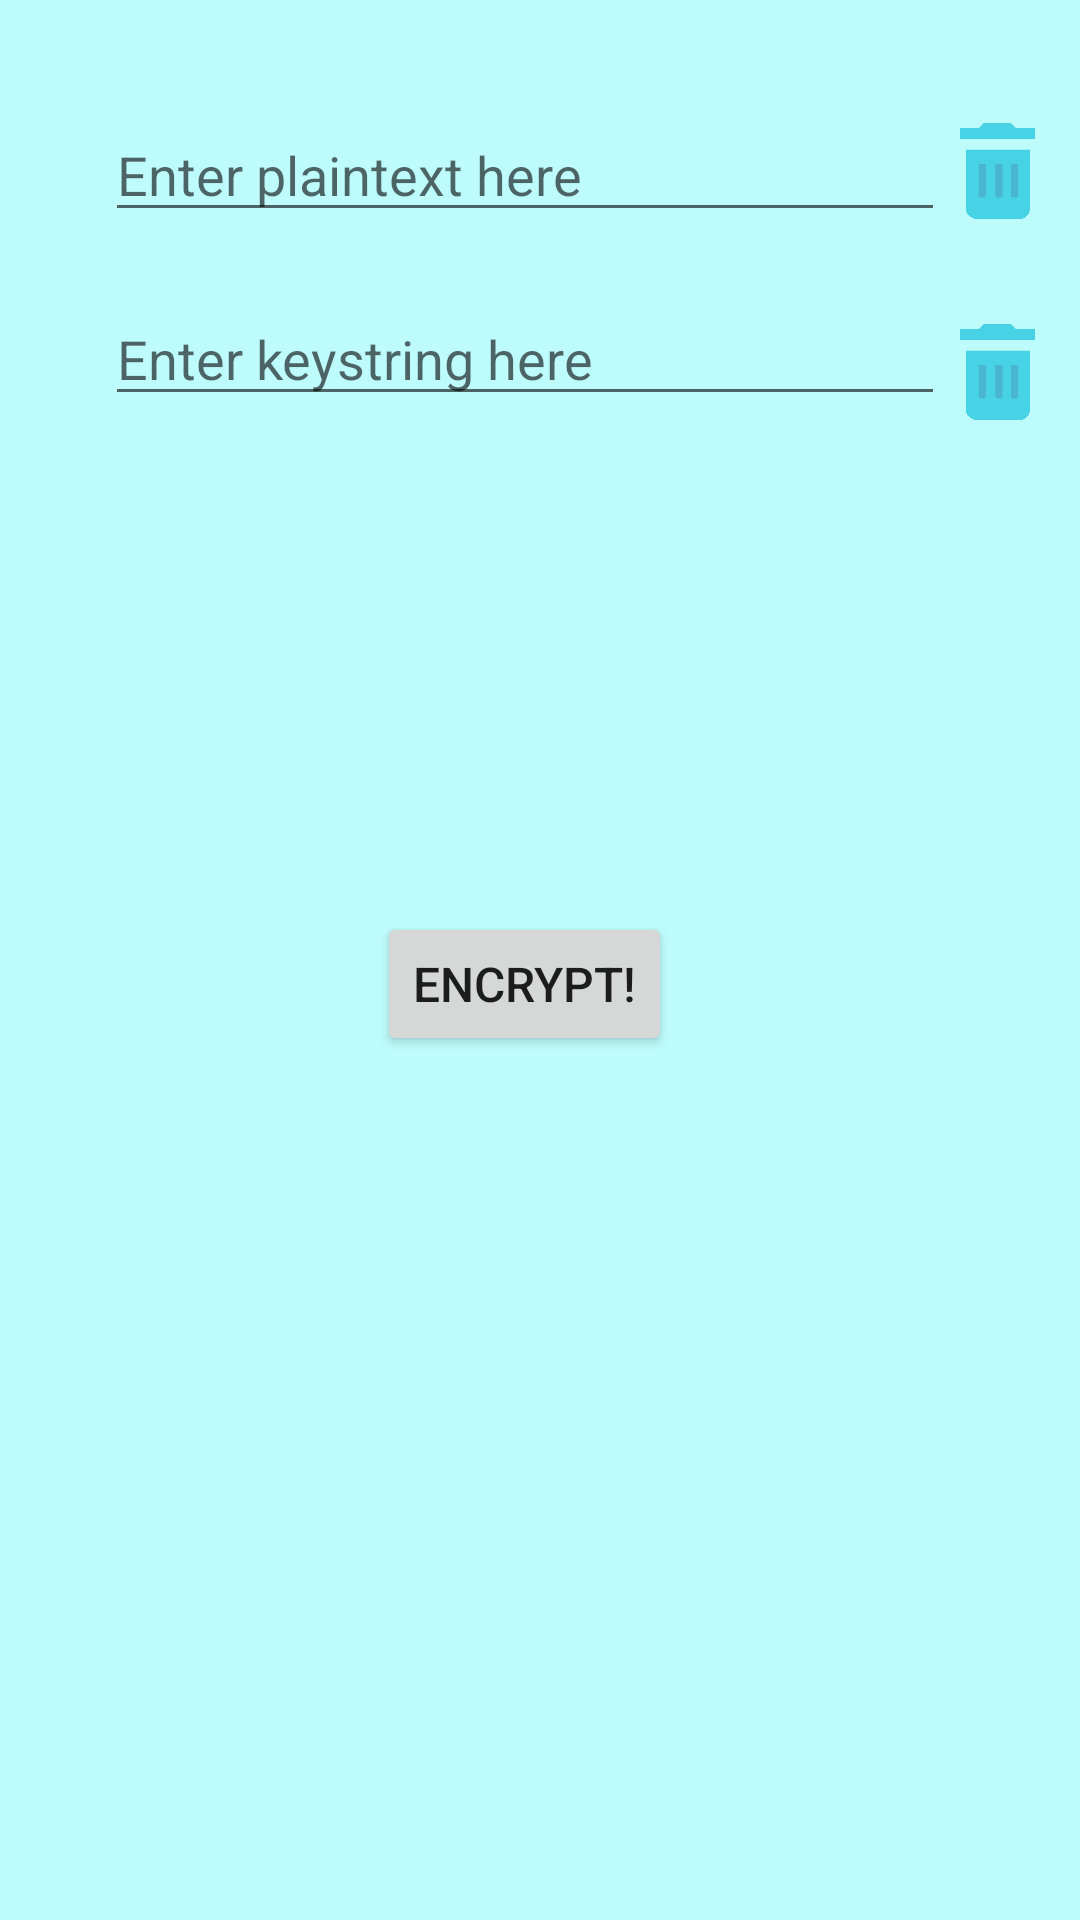

Point at icon controls on the screen. Image size 1080px x 1920px, points as point (x, y).
bin: point (997, 171), point (997, 372)
